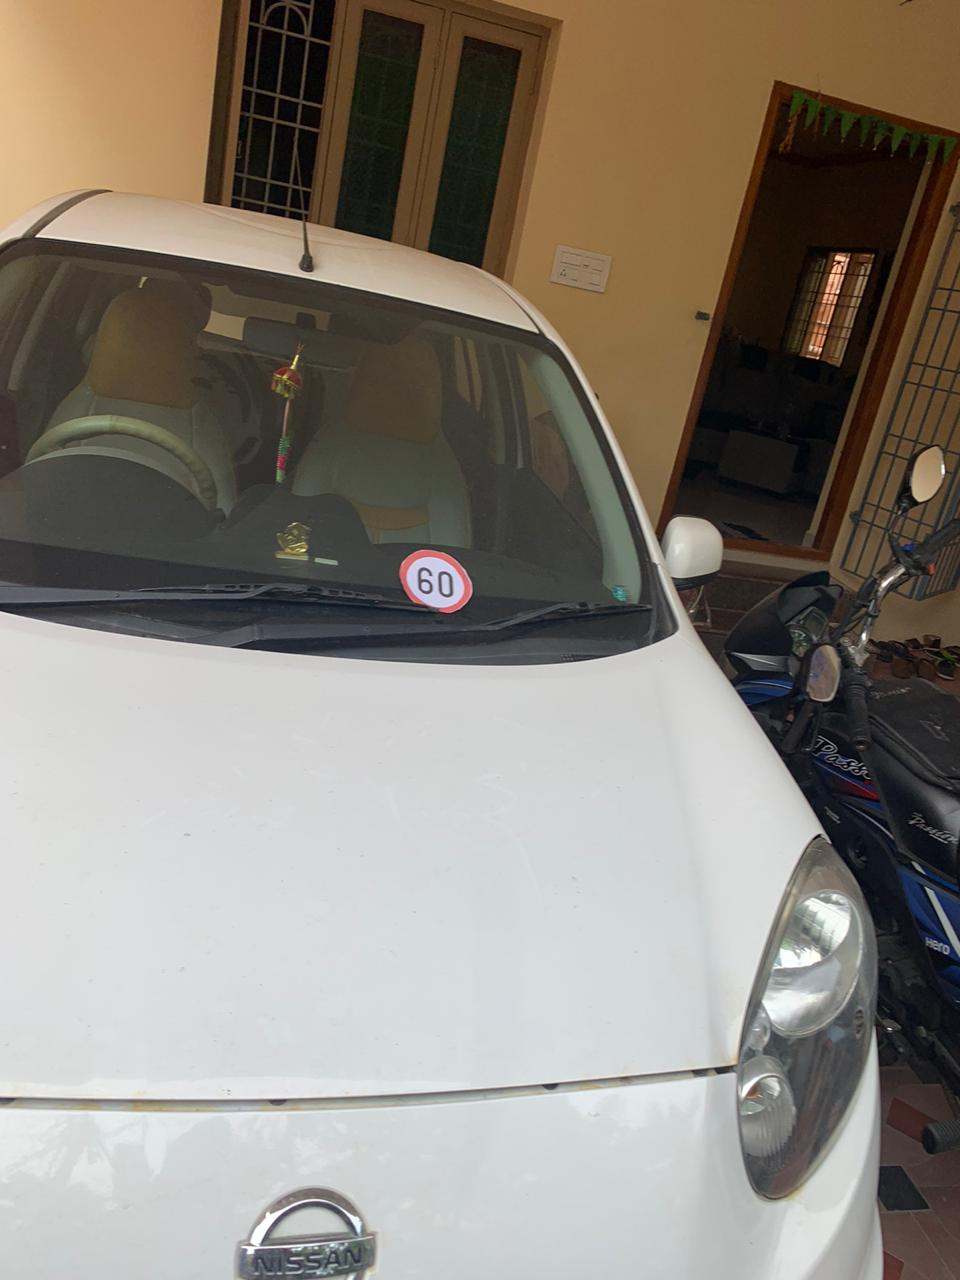SPEED LIMIT (60 KM/H): (386, 521, 503, 611)
